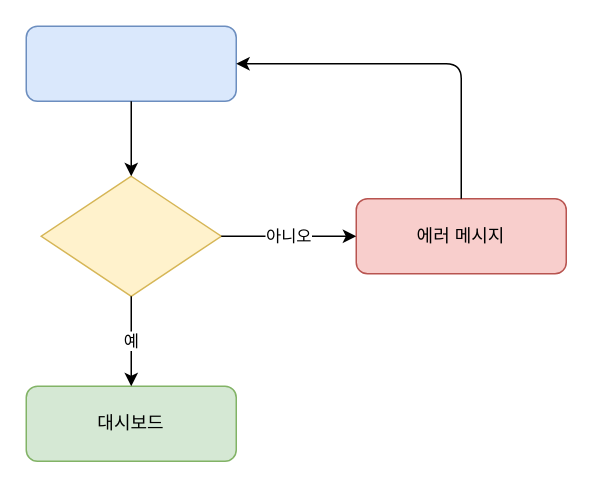
Image size: 593x488. Some labels were removed from this diagram. Here are the shapes that lost their labels. From the top down, the box of each, then its label:
(25, 25, 236, 101): 로그인 페이지
(40, 175, 221, 296): 인증 성공?
